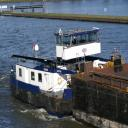tugboat: (10, 27, 128, 122)
